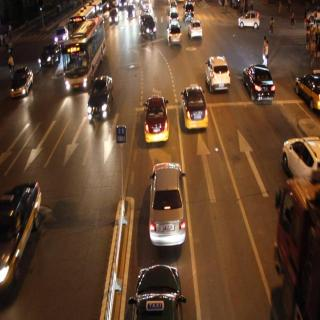BigCar: (276, 190, 320, 320), (65, 18, 110, 85), (71, 2, 105, 22)
Car: (130, 262, 196, 320), (148, 157, 189, 250), (4, 185, 34, 291), (179, 73, 212, 144), (244, 64, 283, 116), (140, 86, 172, 146), (86, 74, 119, 125), (285, 139, 320, 181), (296, 59, 320, 120), (202, 50, 230, 101), (10, 65, 33, 99), (238, 5, 263, 35), (40, 41, 60, 69), (139, 13, 158, 42), (188, 19, 204, 46), (166, 23, 184, 46)
